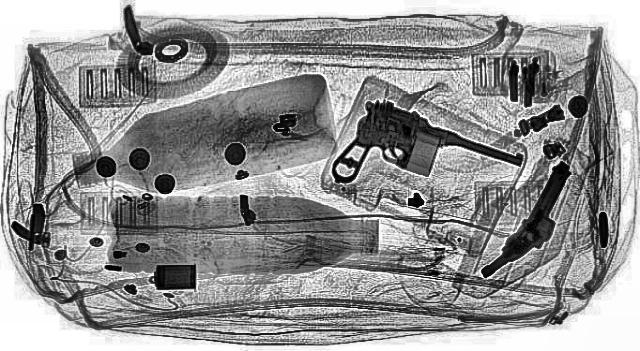Gun: (278, 90, 542, 220), (477, 157, 585, 281)
